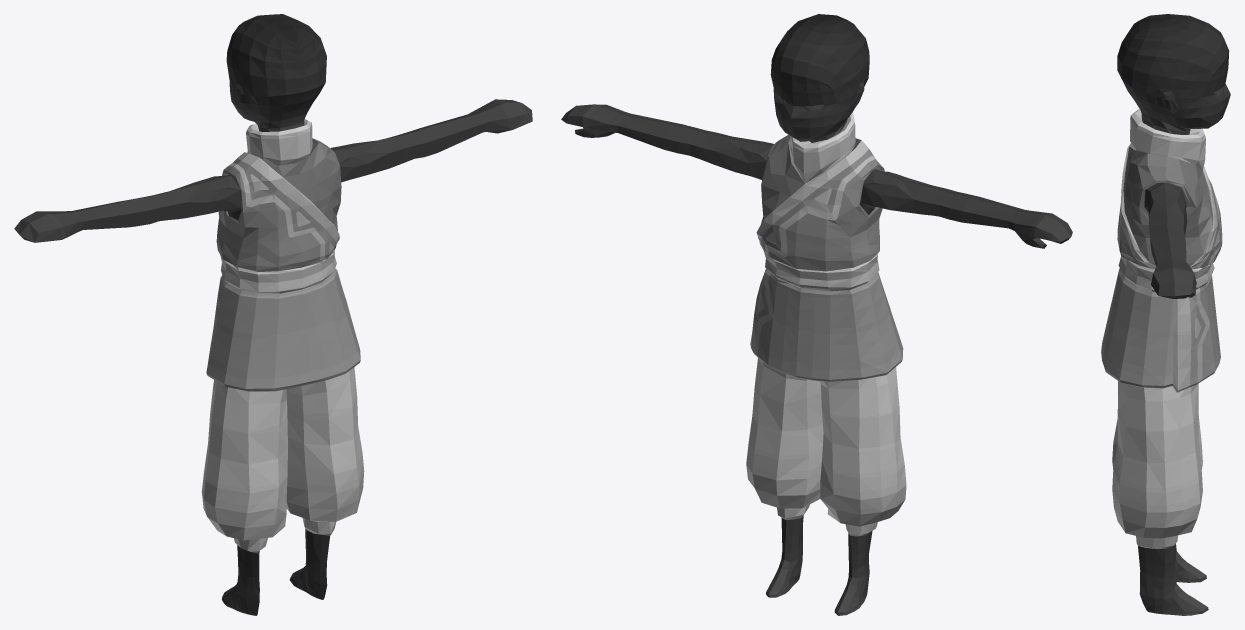
The model's file is CharSkyKid_Body_EvergreenRobe.glb.
3 renders of one model, left to right at view 1: azimuth 30°, elevation 25°; view 2: azimuth 150°, elevation 25°; view 3: azimuth 270°, elevation 25°, orthographic.
Parts seen in each view (by area): view 1: CharSkyKid_Body_EvergreenRobe; view 2: CharSkyKid_Body_EvergreenRobe; view 3: CharSkyKid_Body_EvergreenRobe.
Part boxes in pixels (left/top/right/bottom): CharSkyKid_Body_EvergreenRobe: left=14, top=14, right=532, bottom=615; CharSkyKid_Body_EvergreenRobe: left=561, top=14, right=1072, bottom=615; CharSkyKid_Body_EvergreenRobe: left=1101, top=14, right=1230, bottom=615.
Bounding box in the file's own units: 13.83 × 14.99 × 3.05.
1 material, 1 textured.
